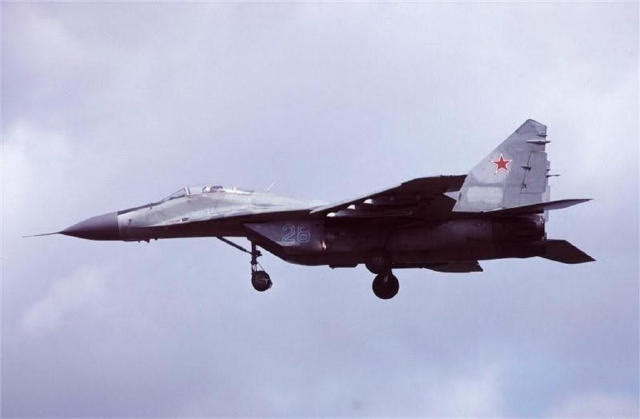airplane: (23, 106, 605, 327)
